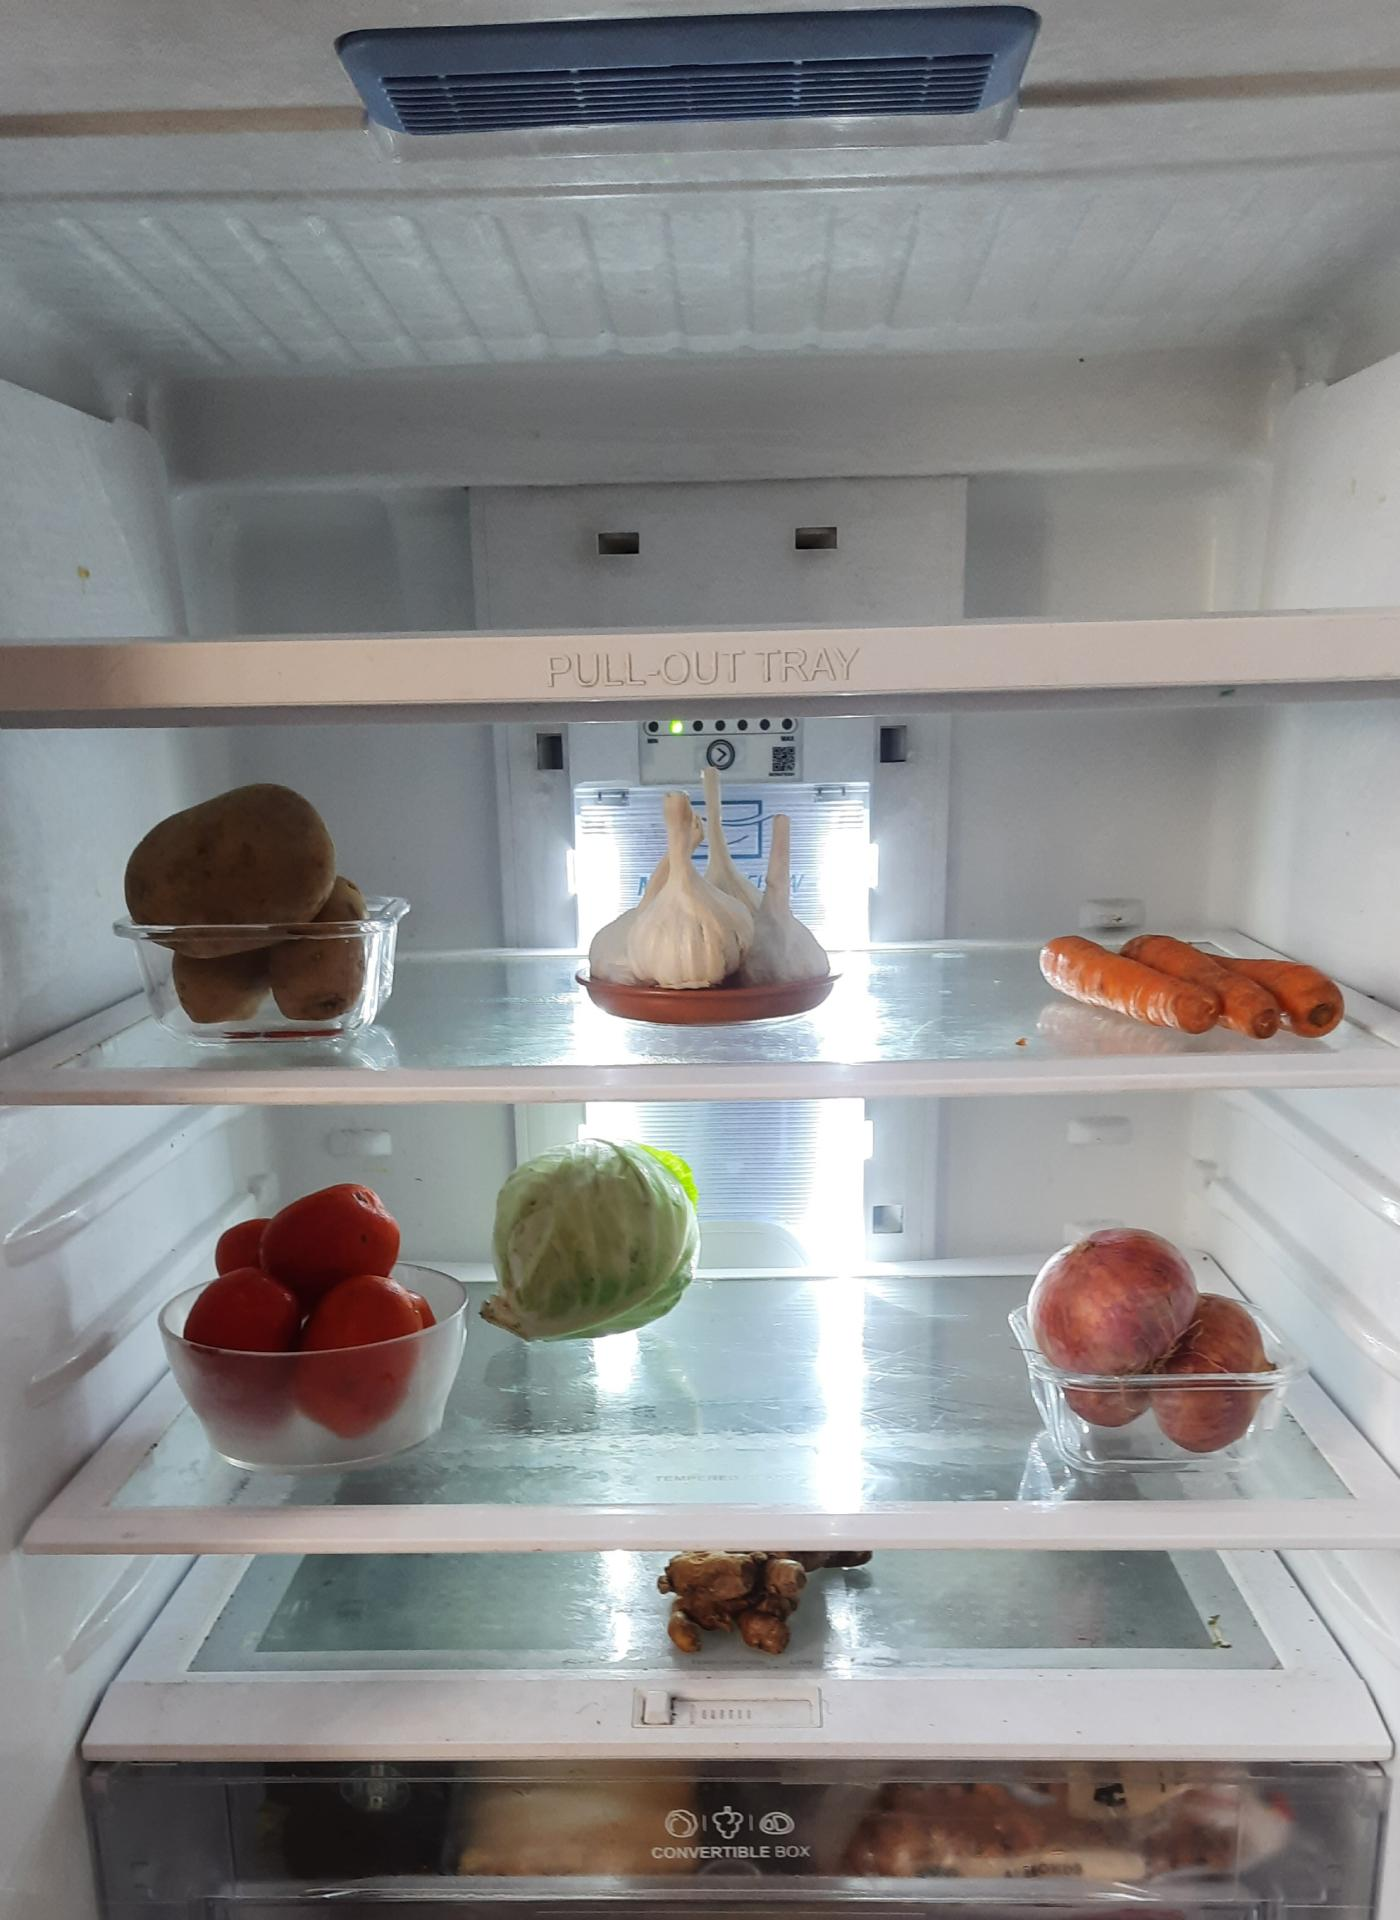cabbage: (471, 1130, 699, 1348)
carrots: (1036, 915, 1366, 1052)
garlic: (577, 756, 826, 1000)
ginger: (668, 1544, 872, 1646)
onion: (1036, 1225, 1291, 1446)
potato: (130, 775, 371, 1051)
tomato: (194, 1190, 434, 1434)
